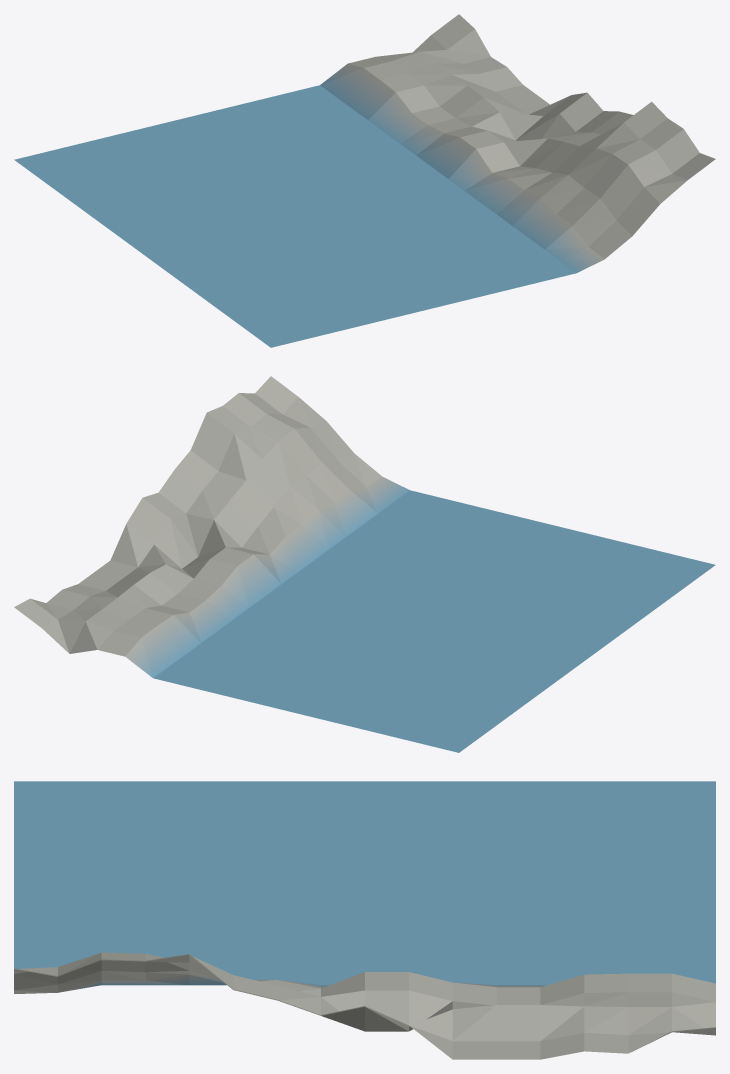
3 views of the same model, one above another, from view 1: azimuth 30°, elevation 25°; view 2: azimuth 150°, elevation 25°; view 3: azimuth 270°, elevation 25° (orthographic). The views are drawn at different scales.
Size of the model in its own units: 32 by 6.23 by 32.
